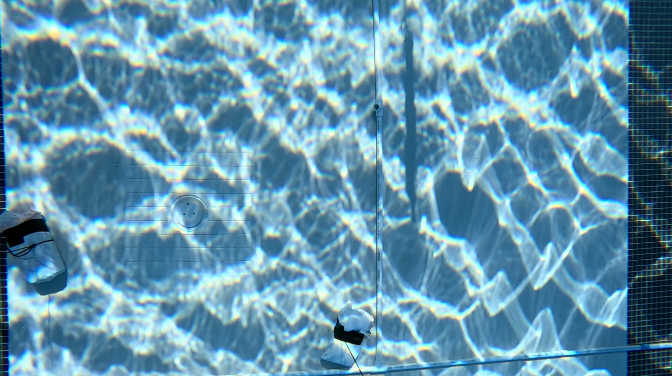sandbag: (1, 204, 70, 281), (323, 302, 371, 366)
